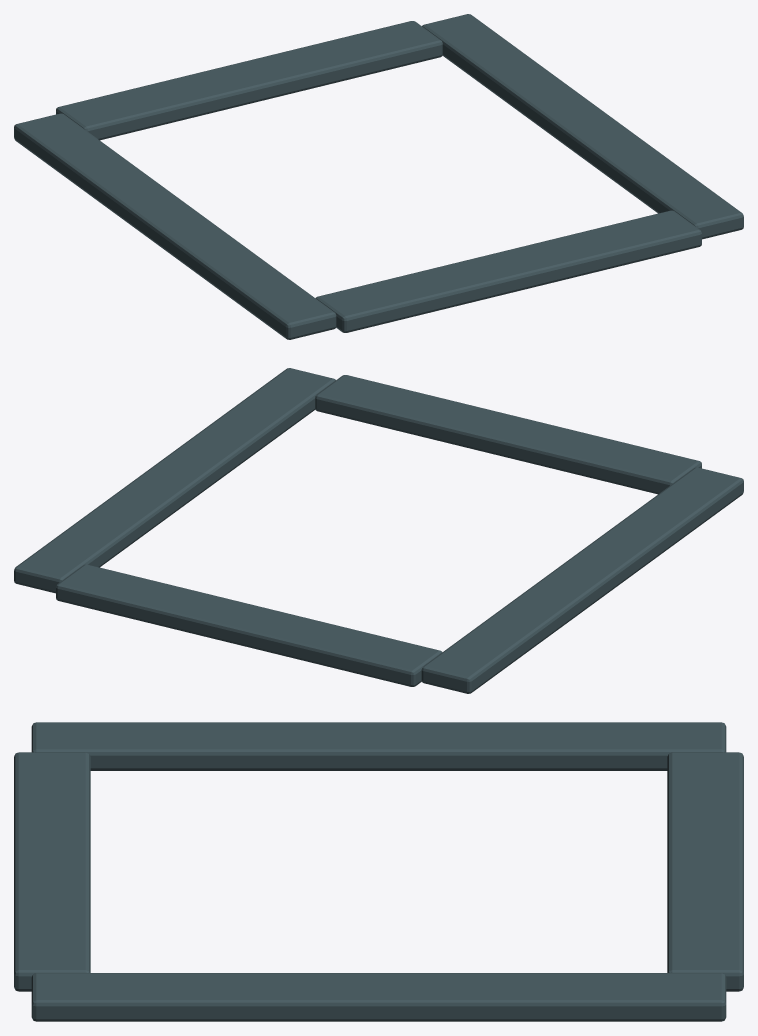
File: cabin_hatch_trim.glb
3 renders of one model, top to bottom at view 1: azimuth 30°, elevation 25°; view 2: azimuth 150°, elevation 25°; view 3: azimuth 270°, elevation 25°, orthographic. The views are drawn at different scales.
Parts seen in each view (by area): view 1: cabin_hatch_trim; view 2: cabin_hatch_trim; view 3: cabin_hatch_trim.
Part boxes in pixels (bbox=[...]): cabin_hatch_trim: bbox=[14, 14, 743, 339]; cabin_hatch_trim: bbox=[14, 368, 743, 693]; cabin_hatch_trim: bbox=[14, 722, 743, 1021].
Bounding box in the file's own units: 1.13 × 0.054 × 1.24.
